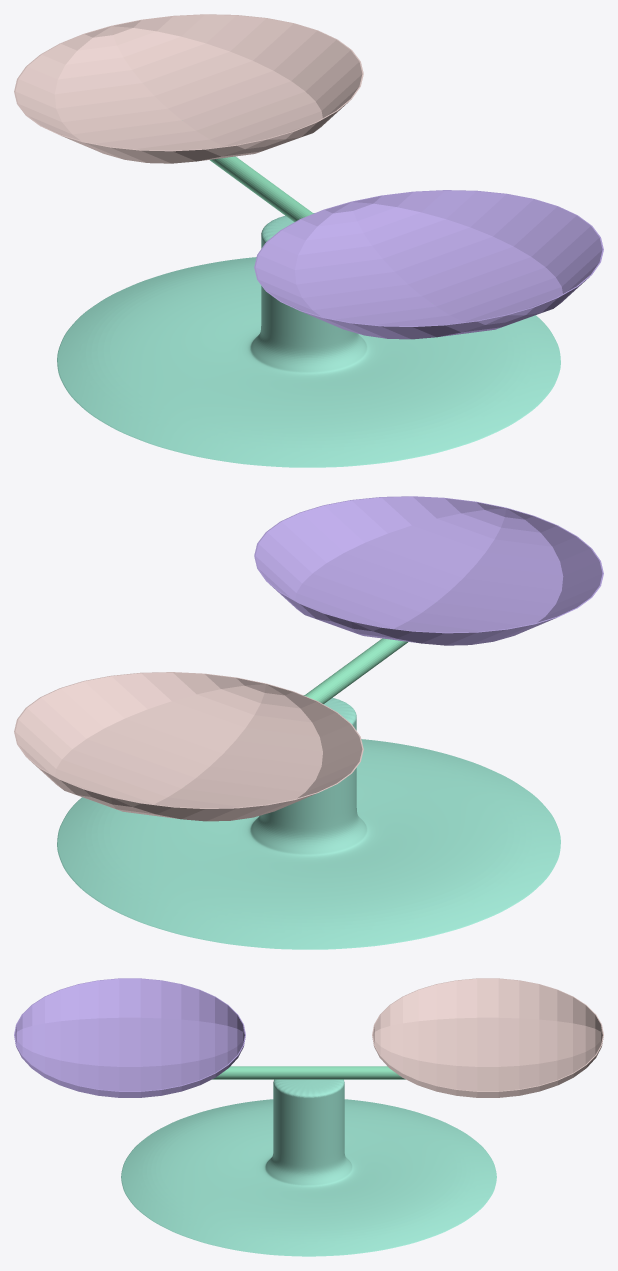
The model's file is Balance.fbx.
3 views of the same model, one above another, from view 1: azimuth 30°, elevation 25°; view 2: azimuth 150°, elevation 25°; view 3: azimuth 270°, elevation 25° (orthographic). The views are drawn at different scales.
Visible parts, largest first — view 1: bottom, plate.right, plate, crossbeam; view 2: bottom, plate, plate.right, crossbeam; view 3: bottom, plate, plate.right, crossbeam.
Part boxes in pixels (x1,y1,x2,y2): bottom: (57, 213, 560, 467); plate.right: (14, 14, 363, 163); plate: (254, 190, 603, 339); crossbeam: (210, 156, 313, 221); bottom: (57, 695, 560, 949); plate: (254, 496, 603, 645); plate.right: (14, 672, 363, 821); crossbeam: (304, 638, 407, 703); bottom: (121, 1079, 496, 1256); plate: (14, 978, 245, 1097); plate.right: (372, 978, 603, 1097); crossbeam: (212, 1066, 405, 1079).
Bounding box in the file's own units: 1050 × 440 × 1648.
